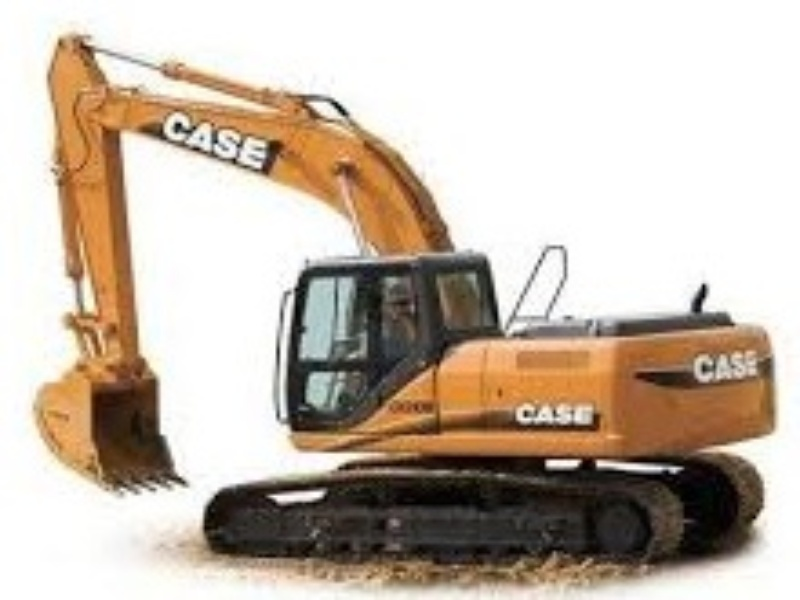wajueji: (194, 121, 785, 597)
